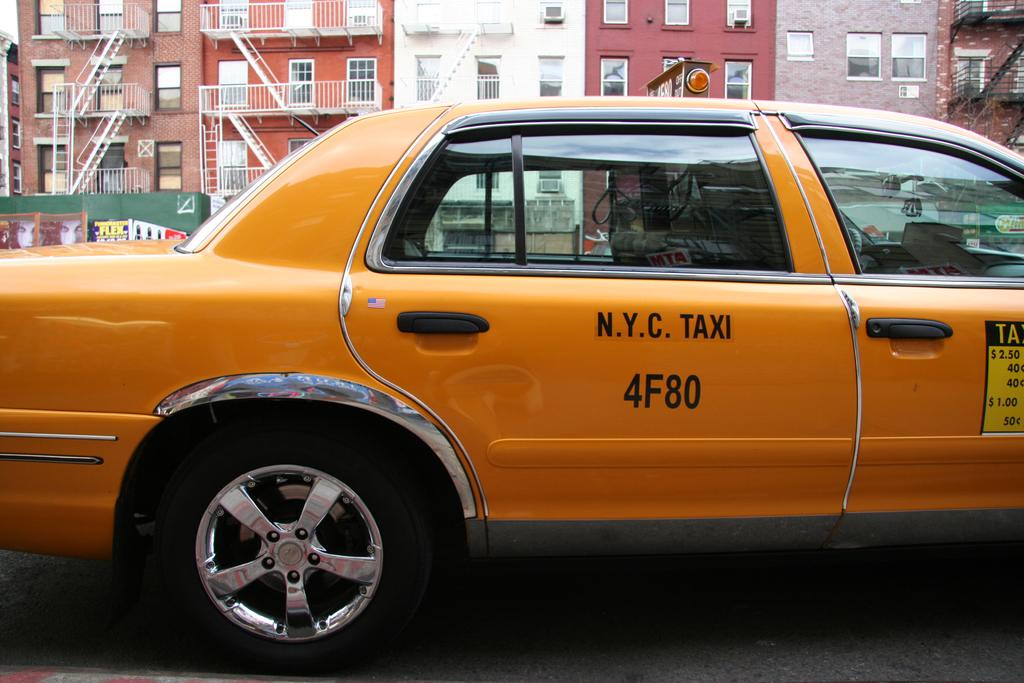taxi: (1, 98, 1024, 677)
